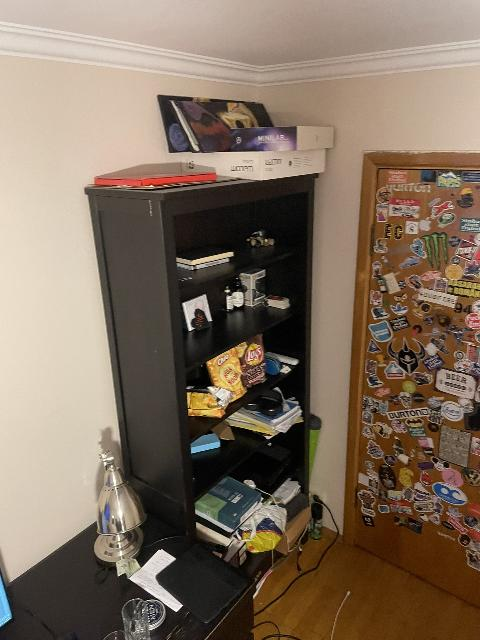Chio Cascaval 125g: (184, 384, 235, 418)
Chio Hula Hoops Cheese 70g: (205, 341, 252, 402)
Lays Beef Grilled Ribs 125g: (234, 333, 265, 388)
